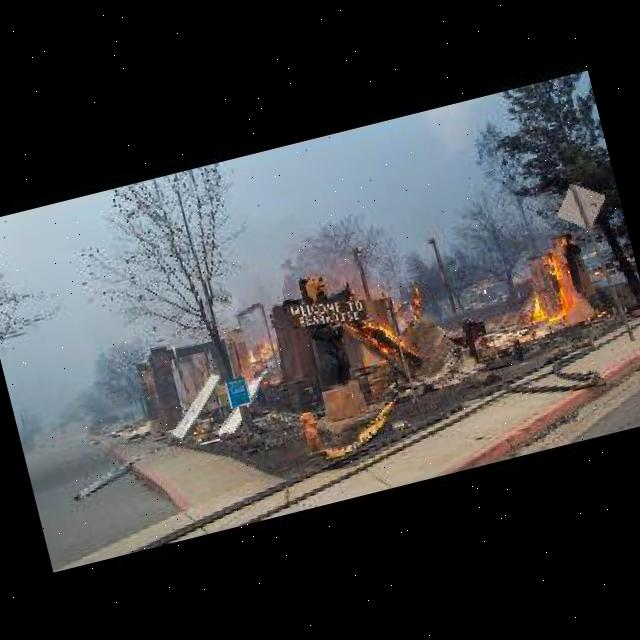fire: (511, 233, 592, 341), (341, 295, 429, 379)
